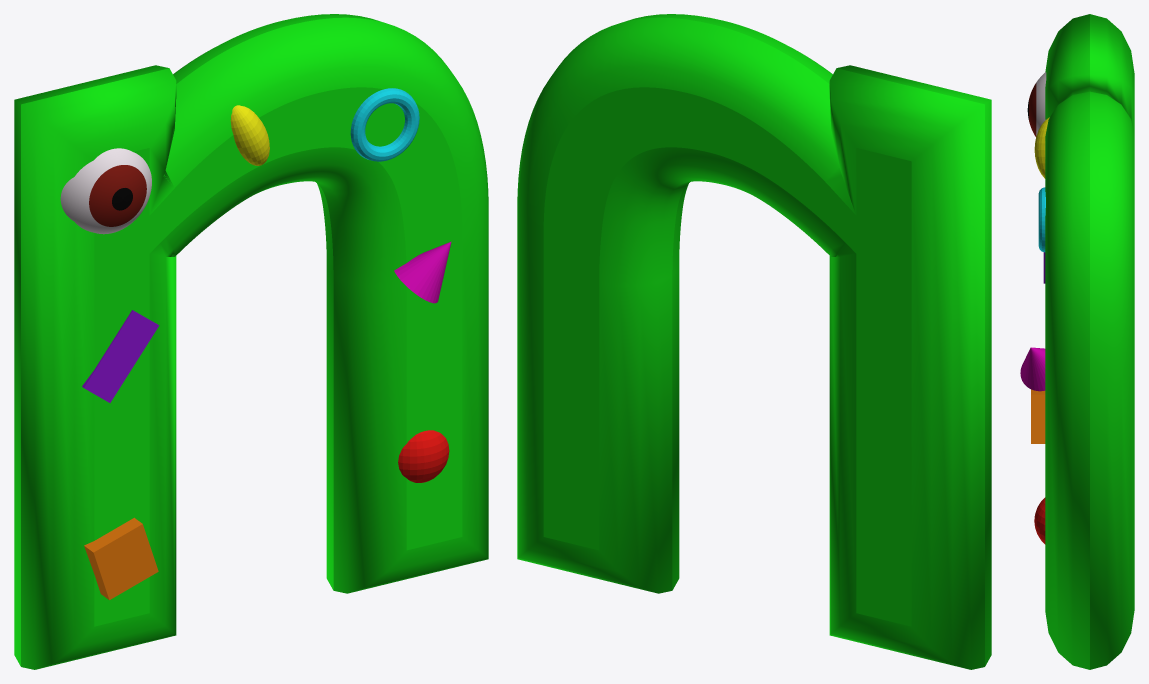
The model's file is n_green.fbx.
3 views of the same model, side by side, from view 1: azimuth 30°, elevation 25°; view 2: azimuth 150°, elevation 25°; view 3: azimuth 270°, elevation 25° (orthographic). The views are drawn at different scales.
Parts seen in each view (by area): view 1: Text, Sphere, Cube, Cube.001, Torus.001, Sphere.001, Cone, Sphere.002; view 2: Text; view 3: Text, Cone, Sphere, Cube, Sphere.002, Torus.001, Sphere.001.
Part boxes in pixels (bbox=[...]): Text: bbox=[14, 14, 488, 669]; Sphere: bbox=[60, 148, 151, 234]; Cube: bbox=[84, 517, 158, 599]; Cube.001: bbox=[82, 310, 159, 402]; Torus.001: bbox=[350, 88, 419, 161]; Sphere.001: bbox=[398, 430, 449, 482]; Cone: bbox=[394, 241, 451, 303]; Sphere.002: bbox=[230, 105, 269, 165]; Text: bbox=[517, 14, 991, 669]; Text: bbox=[1045, 14, 1134, 669]; Cone: bbox=[1020, 347, 1045, 391]; Sphere: bbox=[1027, 72, 1046, 136]; Cube: bbox=[1031, 389, 1045, 443]; Sphere.002: bbox=[1034, 117, 1049, 178]; Torus.001: bbox=[1038, 187, 1045, 252]; Sphere.001: bbox=[1034, 497, 1045, 544].
Bounding box in the file's own units: 97.94 × 117 × 25.21.
